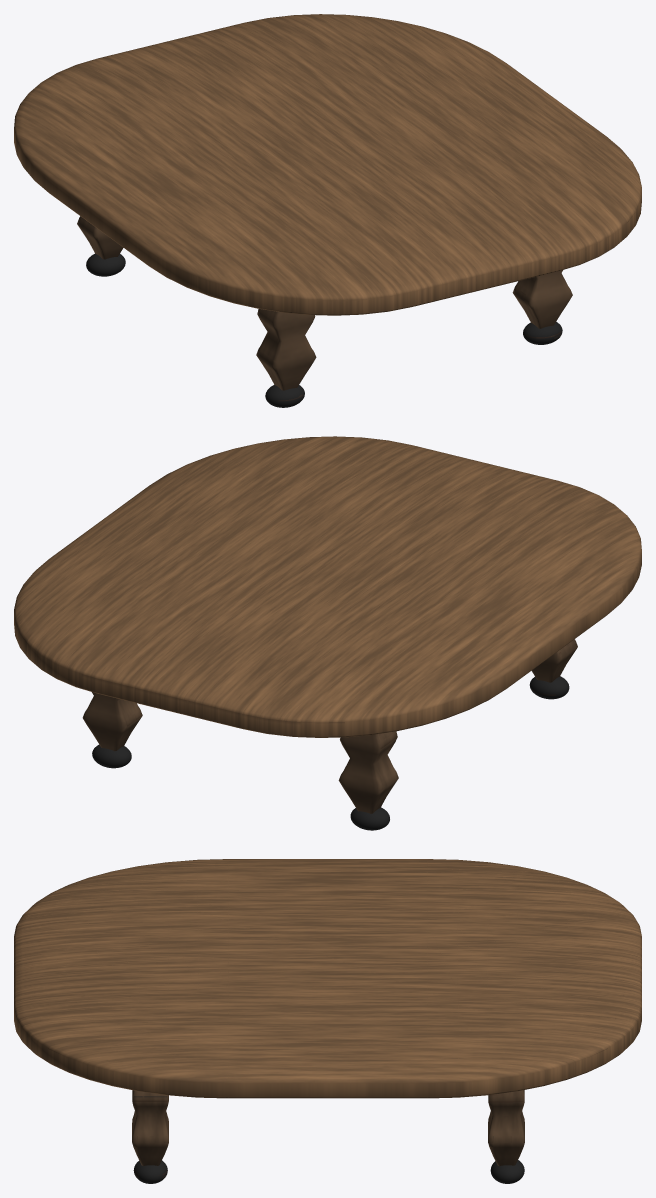
The model's file is fancy_cloth_table.fbx.
3 views of the same model, one above another, from view 1: azimuth 30°, elevation 25°; view 2: azimuth 150°, elevation 25°; view 3: azimuth 270°, elevation 25° (orthographic).
Parts seen in each view (by area): view 1: Cube.012; view 2: Cube.012; view 3: Cube.012.
Part boxes in pixels (x1,y1,x2,y2): Cube.012: (14,14,641,407); Cube.012: (14,436,641,830); Cube.012: (14,859,641,1183).
Size of the model in its own units: 1248 by 427 by 1486.
Materials: 1 (1 with a texture image).
